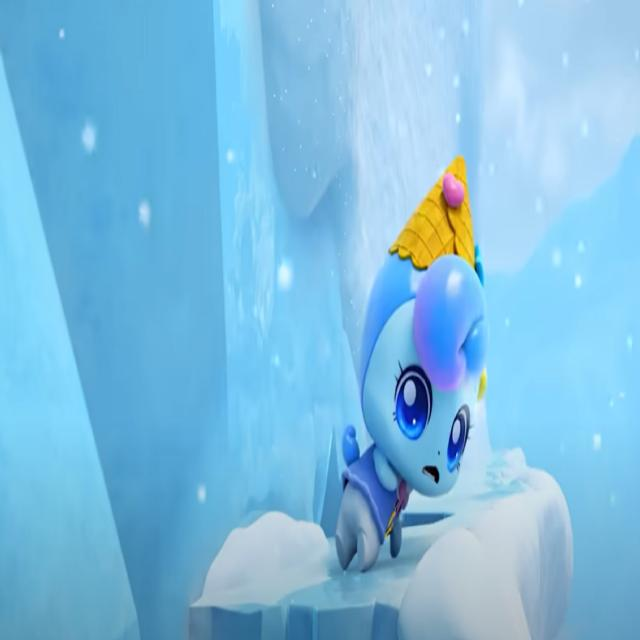Shashaping: (334, 155, 488, 572)
